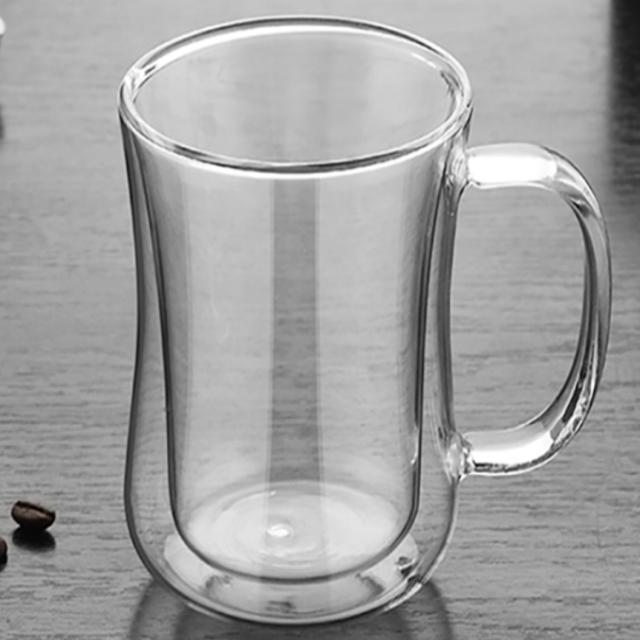recyclable: (89, 9, 636, 633)
